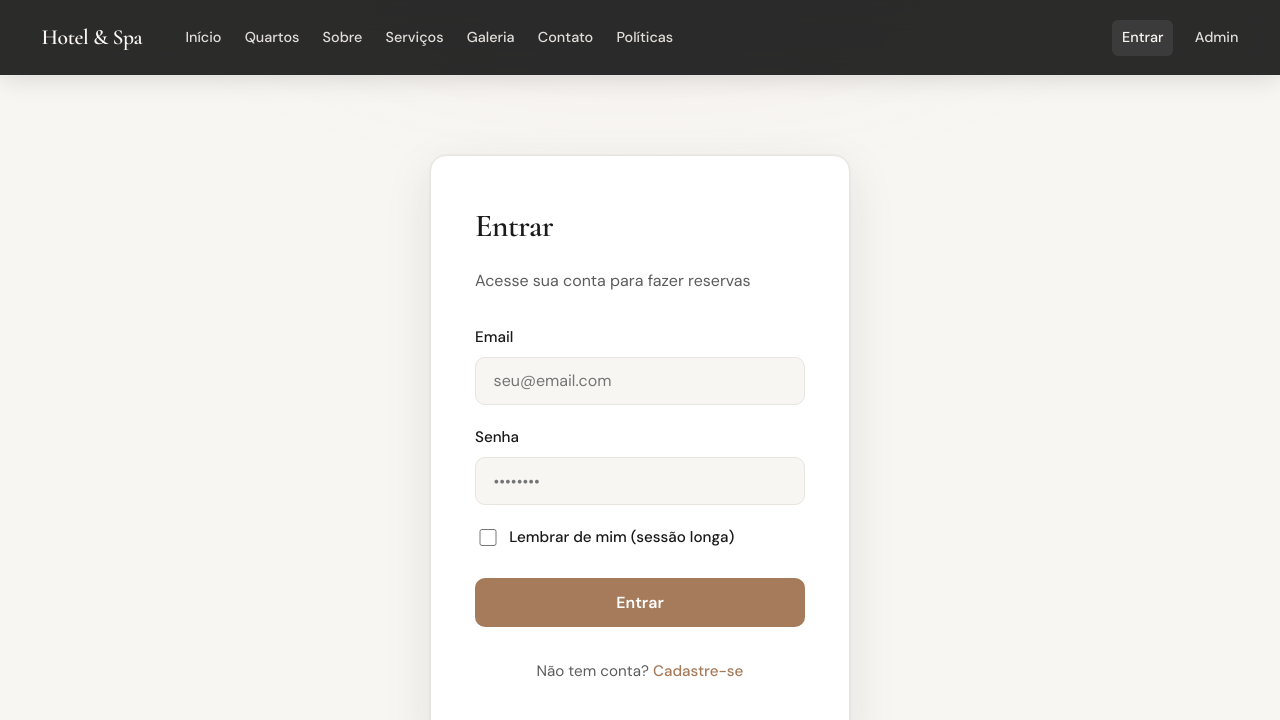
it: Autenticação › deve mostrar erro com credenciais inválidas
Type "invalido@test.com" into the field named "email" at (640, 382), box 475,357 -> 805,406
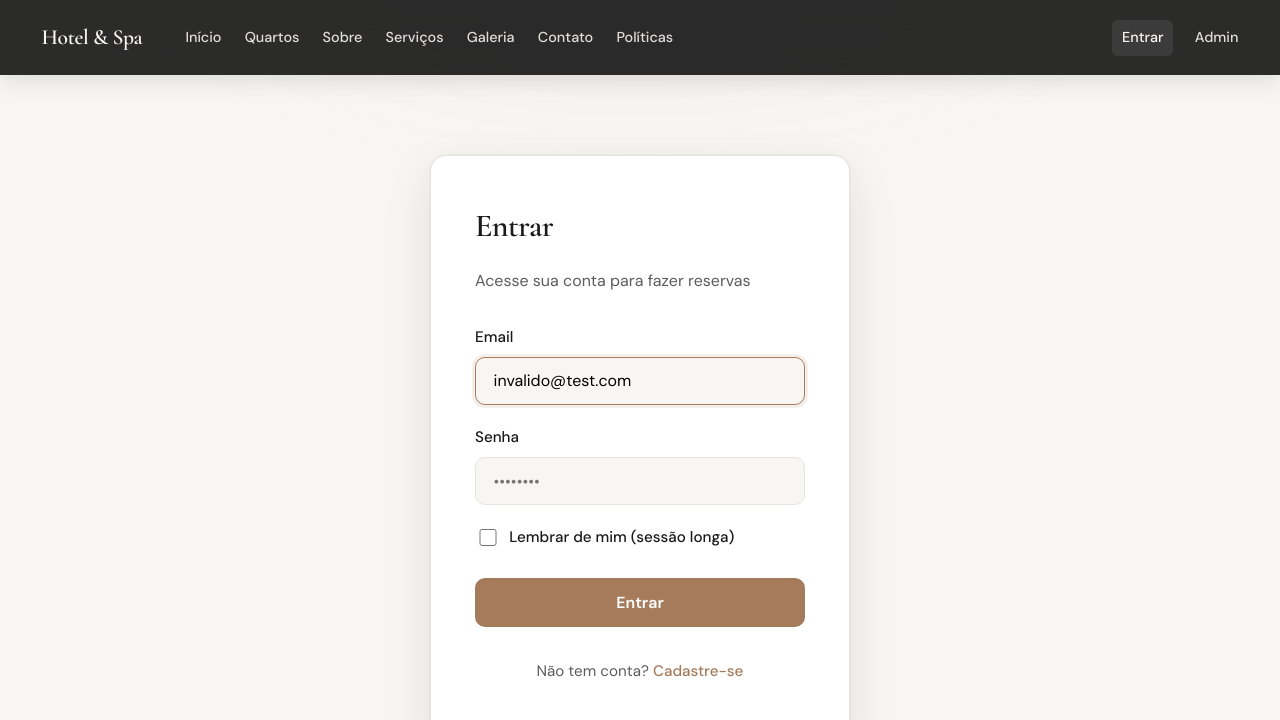
Type "wrong" into the password field named "senha" at (640, 482), box 475,457 -> 805,506
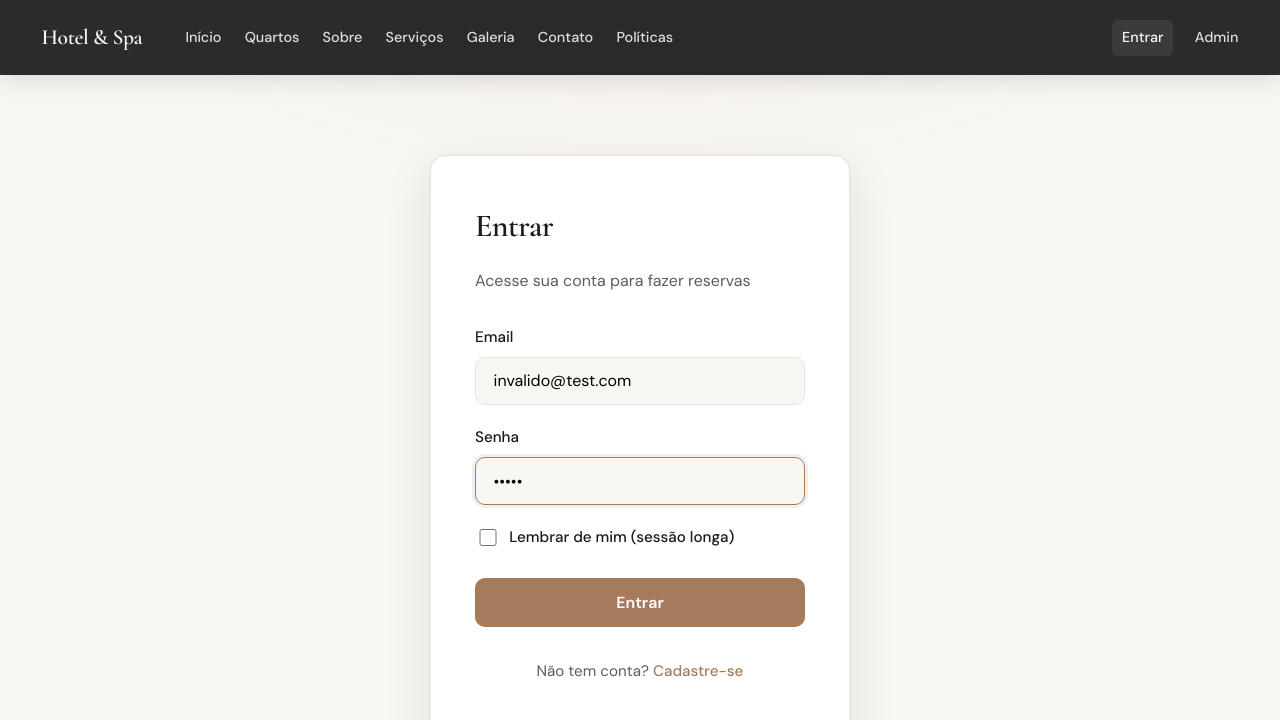
Submit the form, box 475,325 -> 805,627
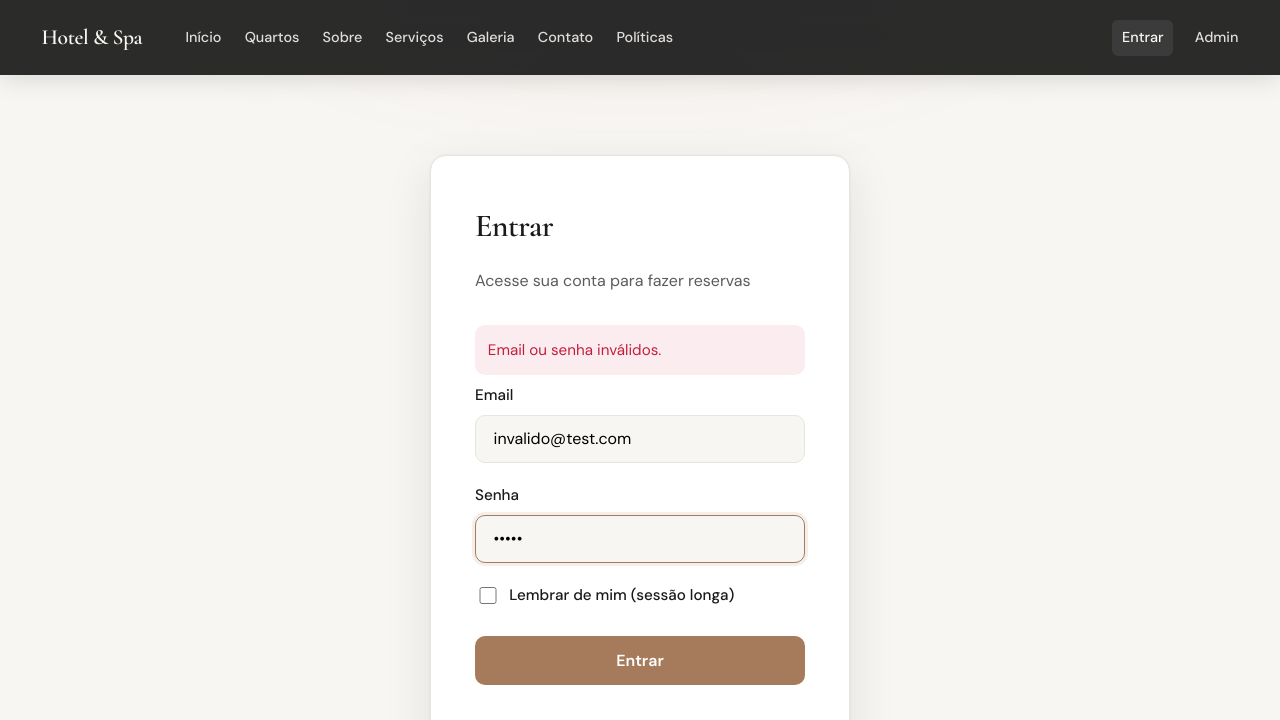
Result: the text "Email ou senha inválidos." is shown at 475,325 -> 805,375
